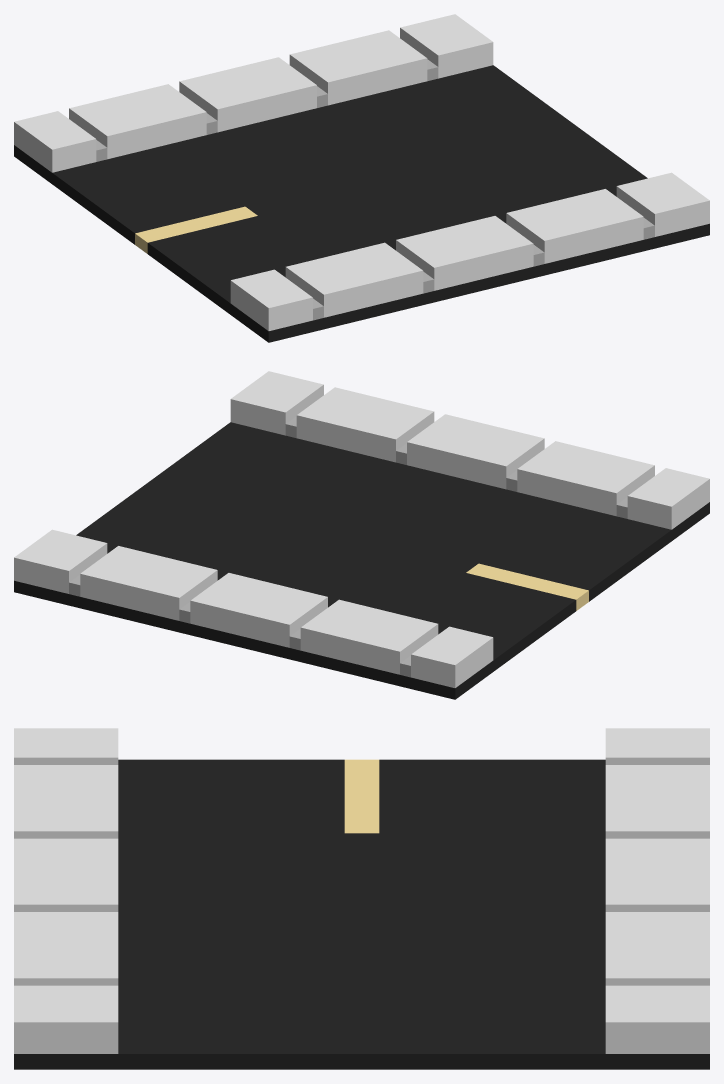
The picture shows the model from 3 angles, top to bottom: view 1: azimuth 30°, elevation 25°; view 2: azimuth 150°, elevation 25°; view 3: azimuth 270°, elevation 25°; orthographic projection. The views are drawn at different scales.
Visible parts, largest first — view 1: Matrix_12; view 2: Matrix_12; view 3: Matrix_12.
Boxes of the visible parts, x1,y1,x2,y2 form: Matrix_12: (14, 14, 709, 342); Matrix_12: (14, 371, 709, 699); Matrix_12: (14, 728, 709, 1069).
Size of the model in its own units: 40 by 3 by 40.
1 material, 1 textured.
